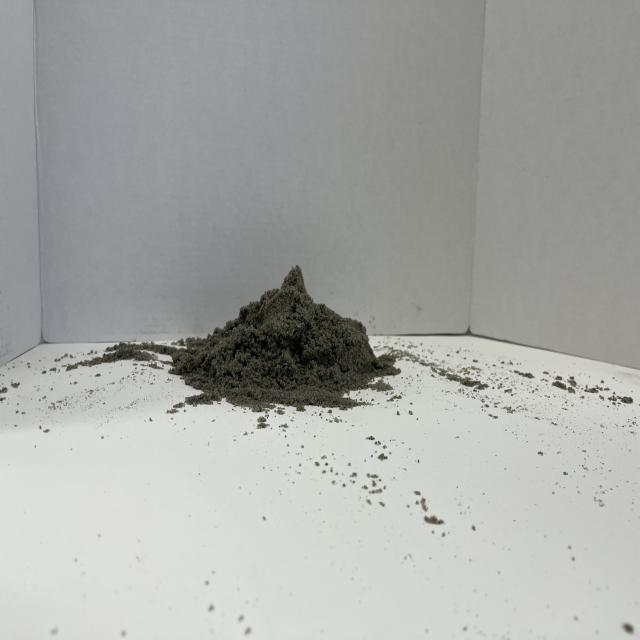sand: (155, 249, 426, 426)
